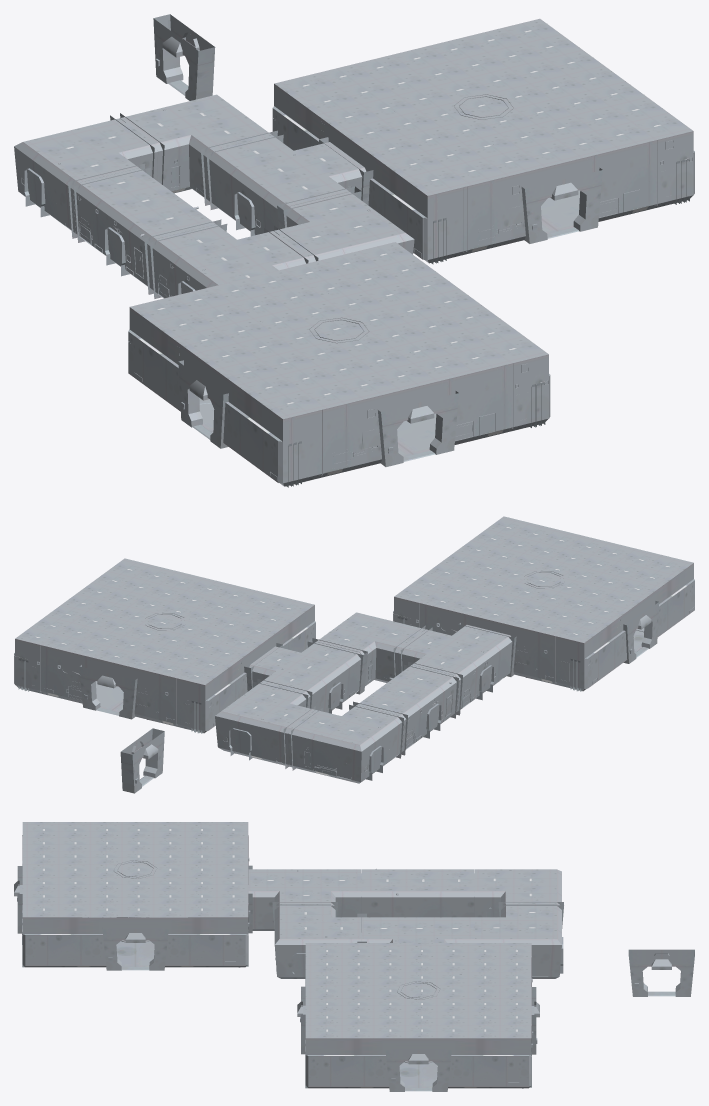
File: Combined_Mesh_root_scene__13_e7023e4f__ZombiesII_laboratory_02_d_7436f9f5_c1f257.obj
3 views of the same model, one above another, from view 1: azimuth 30°, elevation 25°; view 2: azimuth 150°, elevation 25°; view 3: azimuth 270°, elevation 25° (orthographic). The views are drawn at different scales.
Bounding box in the file's own units: 93.74 × 10.34 × 121.
592 materials, 592 textured.
